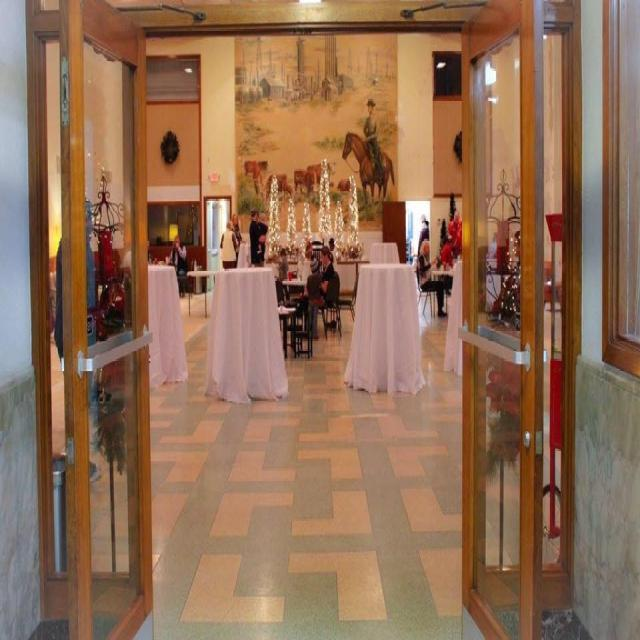body: (53, 235, 103, 484), (416, 236, 447, 318), (361, 97, 384, 183), (304, 252, 323, 339), (447, 209, 465, 288), (248, 208, 268, 266), (318, 244, 337, 304), (120, 238, 150, 274), (220, 219, 238, 269), (167, 234, 188, 276), (231, 212, 246, 264), (276, 246, 289, 306), (441, 233, 454, 289), (256, 212, 268, 256), (417, 216, 429, 256), (328, 237, 340, 276), (511, 228, 521, 271), (302, 243, 312, 280), (446, 289, 452, 295)
